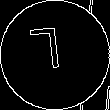L_S: (37, 28, 73, 82)
